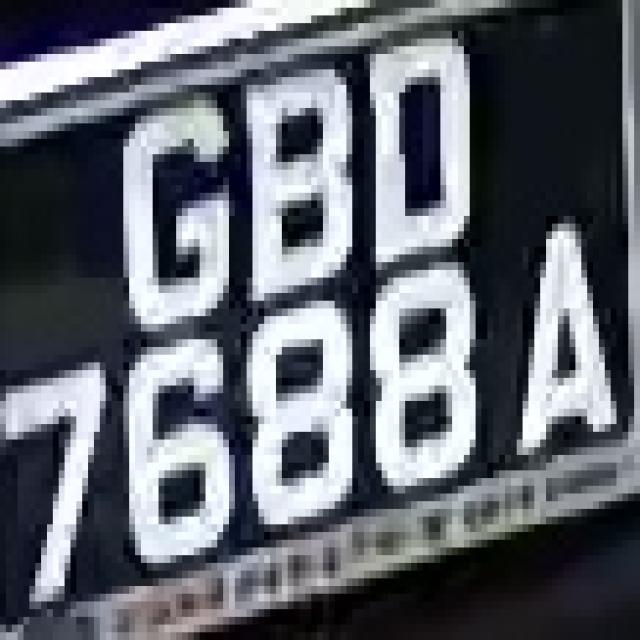6: (111, 308, 235, 578)
7: (12, 332, 123, 632)
8: (229, 300, 370, 570), (352, 247, 488, 509)
A: (505, 216, 628, 463)
B: (217, 54, 358, 316)
D: (352, 23, 488, 270)
G: (106, 77, 247, 355)
